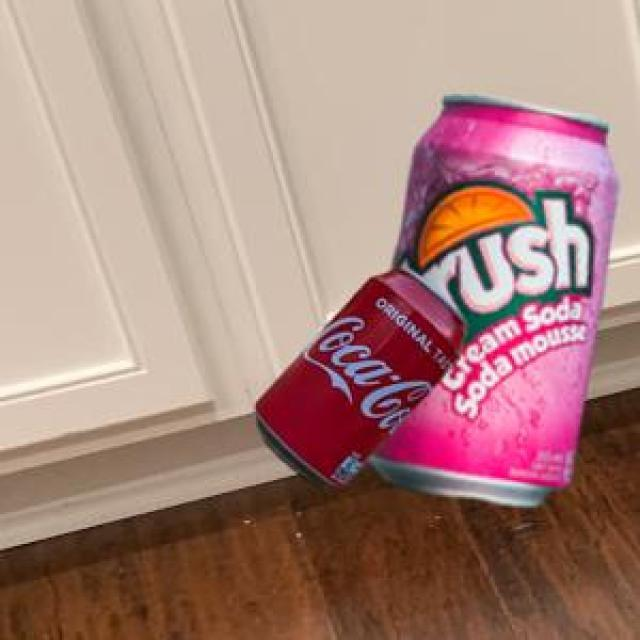Can: (366, 93, 615, 502), (253, 266, 464, 481)
